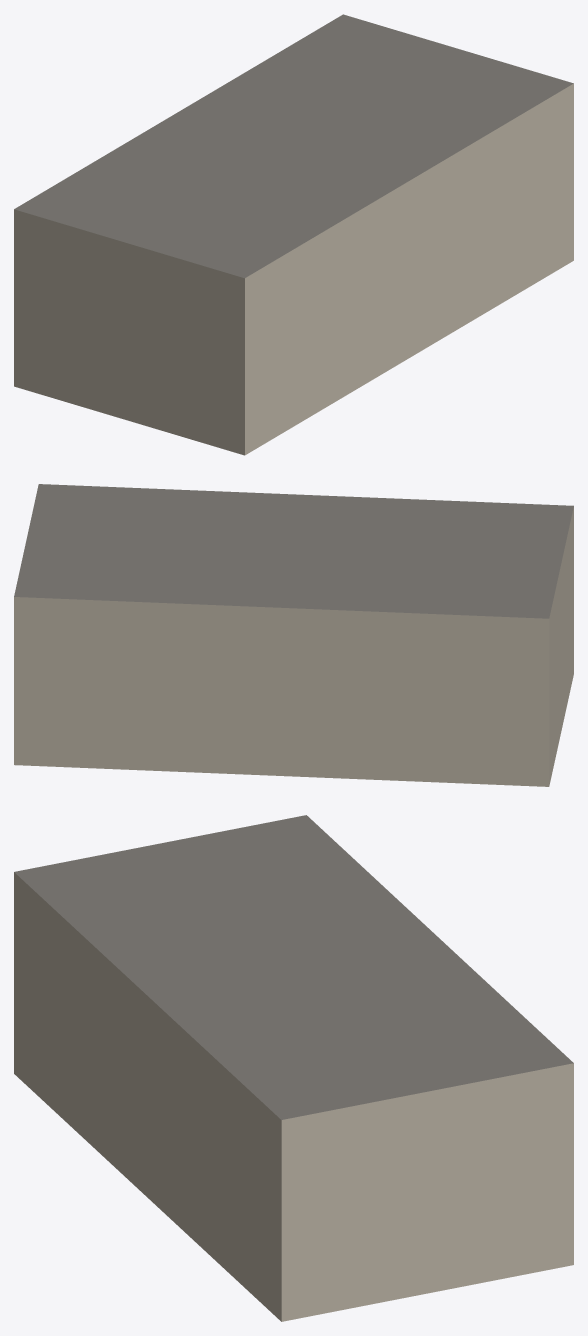
3 renders of one model, top to bottom at view 1: azimuth 30°, elevation 25°; view 2: azimuth 150°, elevation 25°; view 3: azimuth 270°, elevation 25°, orthographic. The views are drawn at different scales.
Visible parts, largest first — view 1: HP-w1287260662; view 2: HP-w1287260662; view 3: HP-w1287260662.
Boxes of the visible parts, x1=… form: HP-w1287260662: x1=14, y1=14, x2=573, y2=455; HP-w1287260662: x1=14, y1=484, x2=573, y2=786; HP-w1287260662: x1=14, y1=815, x2=573, y2=1321.
Bounding box in the file's own units: 58.34 × 18 × 45.26.
